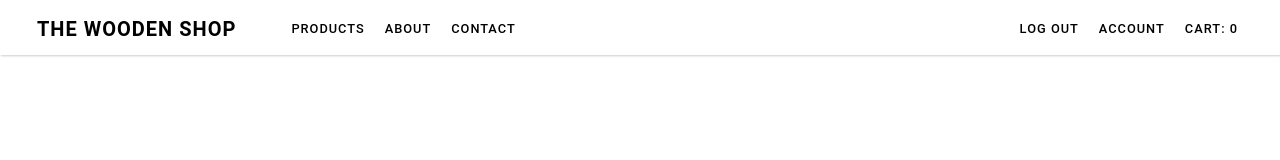
it: log out link renders and works correctly after login
The image size is (1280, 160).
Click the link "Log out" at (1049,28), box [1015,16,1084,41]
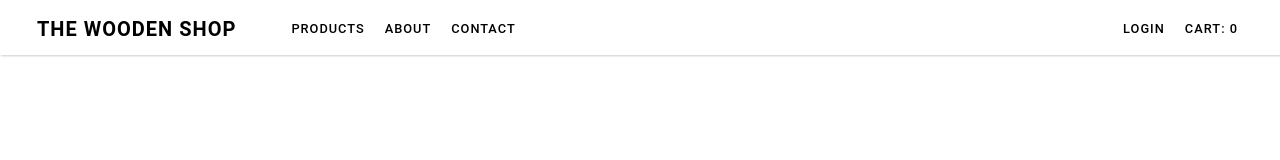
Now the link "Login" is shown, box [1123,21,1165,36]
